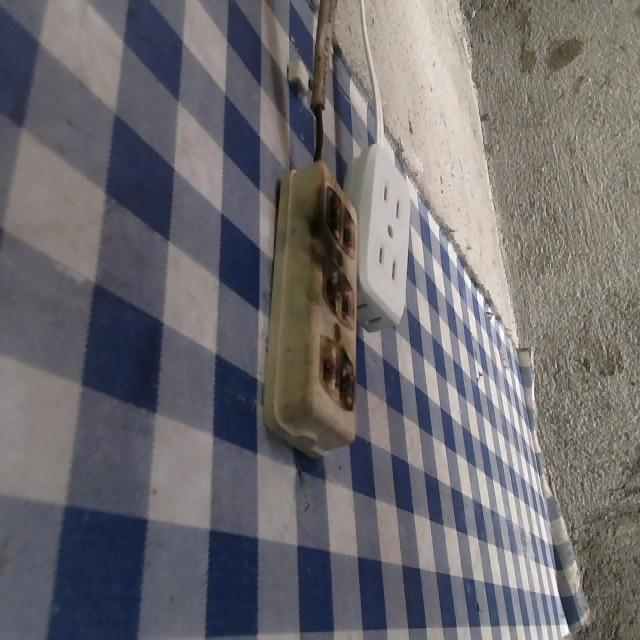-: (317, 331, 357, 418), (315, 189, 360, 259), (319, 251, 359, 325)
